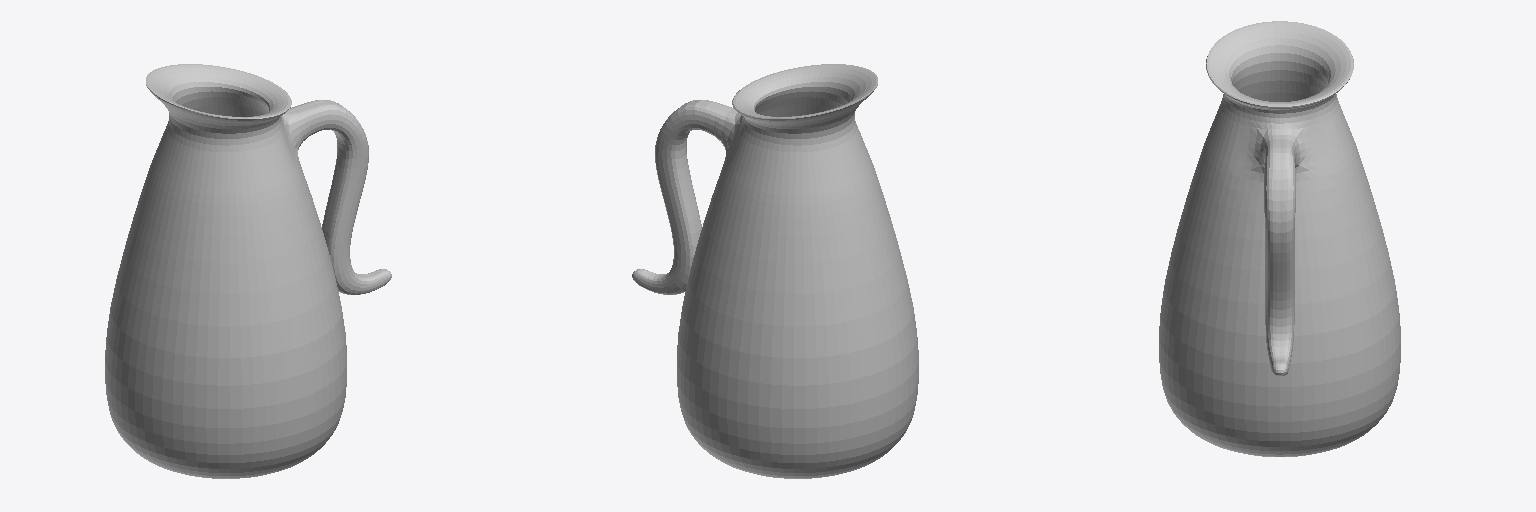
File: Jug.obj
3 renders of one model, left to right at view 1: azimuth 30°, elevation 25°; view 2: azimuth 150°, elevation 25°; view 3: azimuth 270°, elevation 25°, orthographic.
Visible parts, largest first — view 1: Jug_Cylinder.002; view 2: Jug_Cylinder.002; view 3: Jug_Cylinder.002.
Boxes of the visible parts, box(x1,y1,x2,y2) form: Jug_Cylinder.002: box(105, 64, 391, 478); Jug_Cylinder.002: box(632, 64, 918, 478); Jug_Cylinder.002: box(1159, 21, 1400, 456).
Bounding box in the file's own units: 0.9859 × 1.3 × 0.7677.